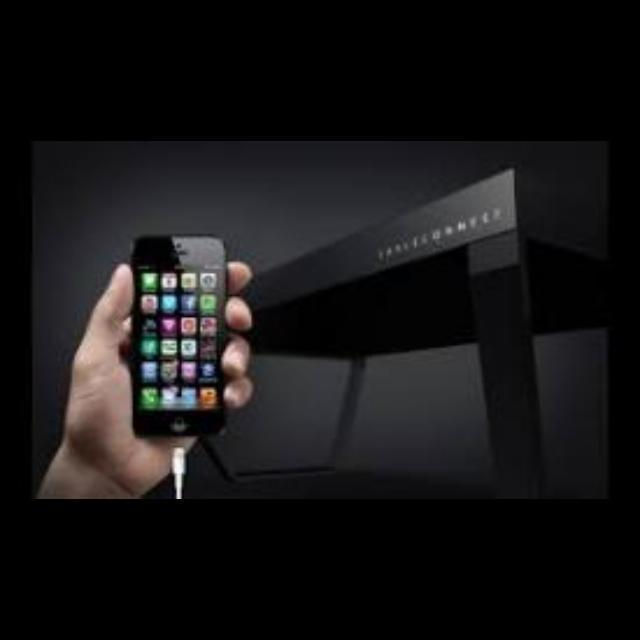phone: (123, 229, 257, 442)
